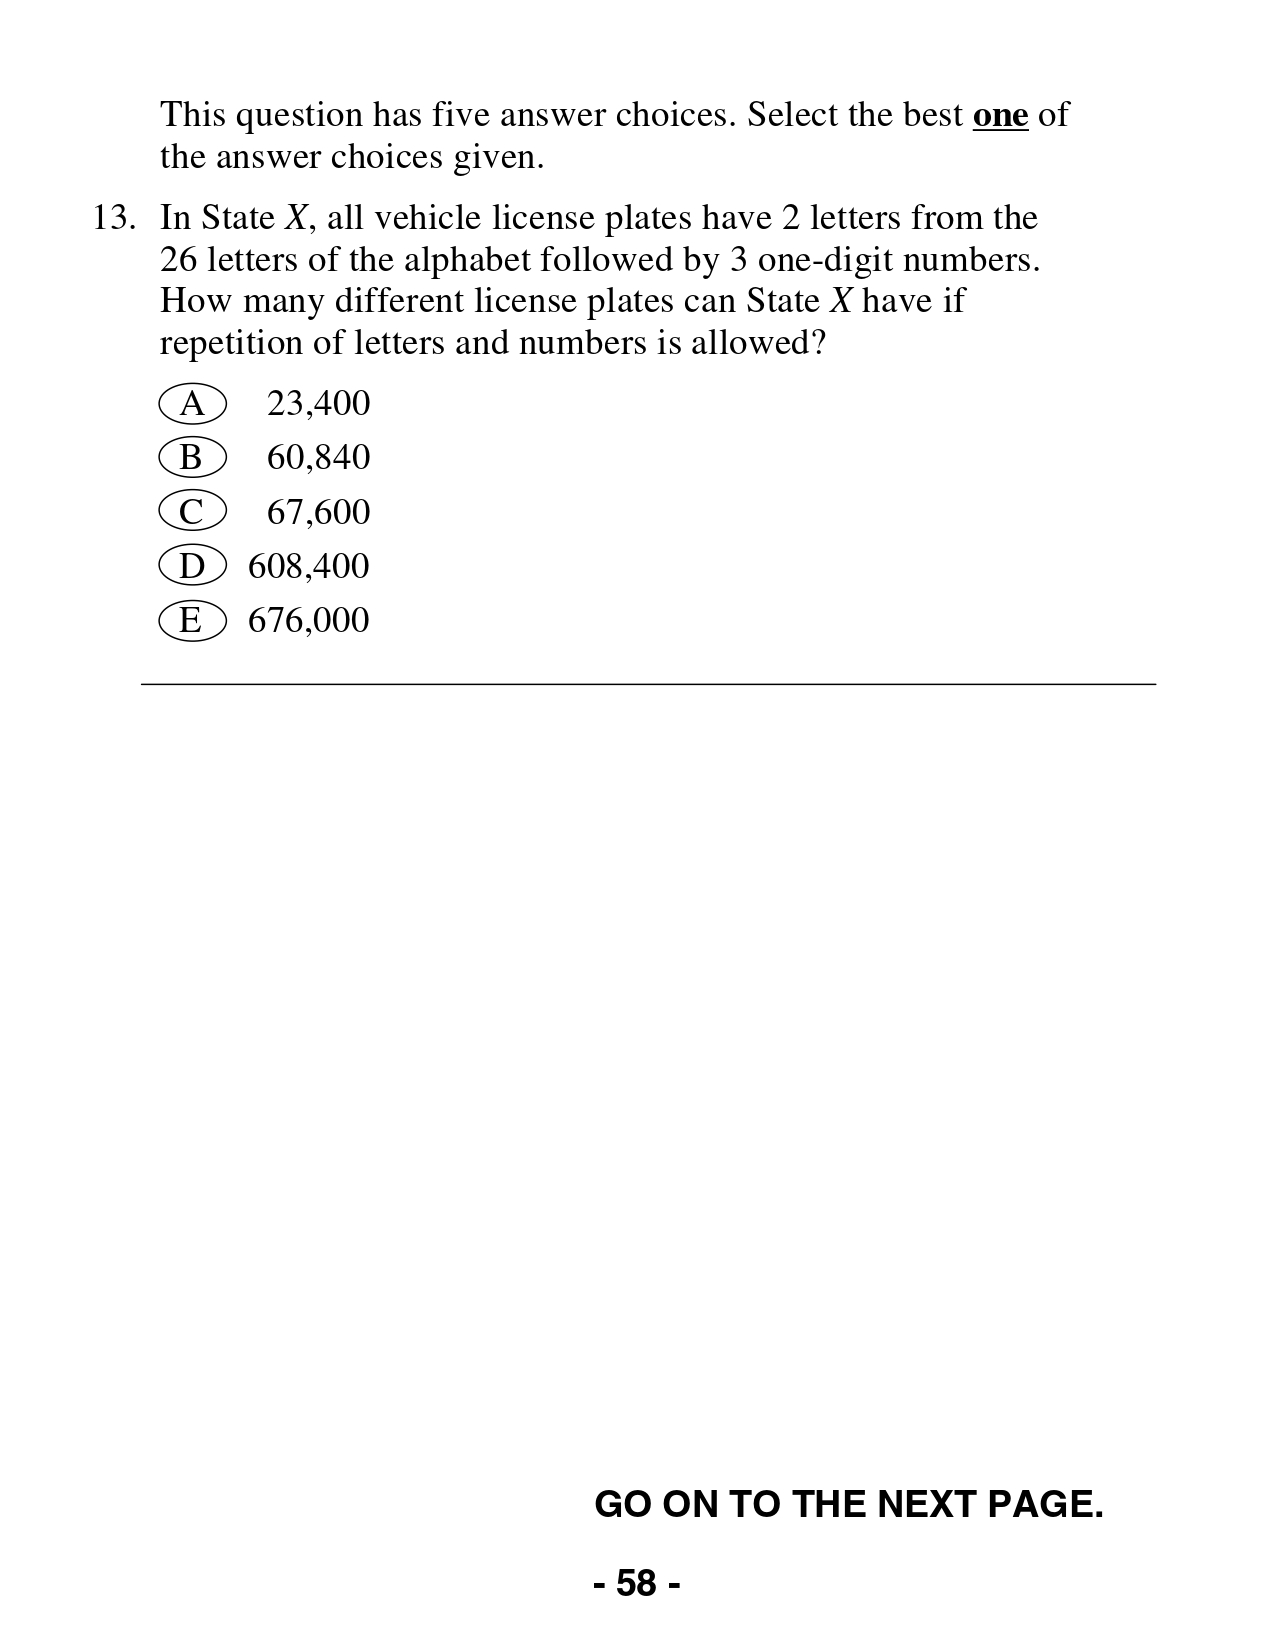Number: (241, 598, 388, 643), (260, 427, 379, 481), (234, 543, 385, 584), (578, 1559, 687, 1604), (247, 495, 375, 533), (254, 382, 373, 417), (80, 186, 137, 240)
Text: (147, 189, 1066, 372), (144, 83, 1089, 182), (591, 1466, 1105, 1533), (147, 598, 230, 646), (151, 430, 228, 481), (151, 543, 228, 591), (151, 488, 228, 533), (151, 382, 231, 423)
